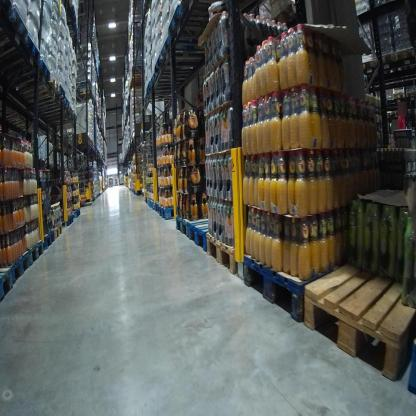pallet: (300, 249, 415, 387), (241, 234, 383, 333), (167, 6, 230, 51), (159, 31, 229, 63), (188, 215, 230, 255), (208, 234, 240, 283), (3, 38, 47, 72), (18, 110, 78, 134), (7, 97, 72, 119), (10, 85, 66, 110), (151, 65, 207, 88), (153, 51, 207, 73), (4, 249, 31, 290), (5, 59, 57, 77), (6, 7, 31, 44), (373, 50, 402, 76), (9, 78, 62, 92), (14, 106, 75, 118), (144, 77, 189, 93), (172, 211, 191, 245), (393, 44, 415, 72), (160, 201, 185, 223), (361, 57, 383, 81), (28, 239, 44, 270), (43, 227, 57, 257), (0, 267, 13, 299), (77, 87, 93, 103), (64, 211, 74, 233), (154, 201, 162, 219), (54, 223, 62, 241), (406, 88, 416, 99), (75, 208, 83, 221), (391, 108, 401, 118), (393, 93, 404, 101), (382, 111, 392, 118)
